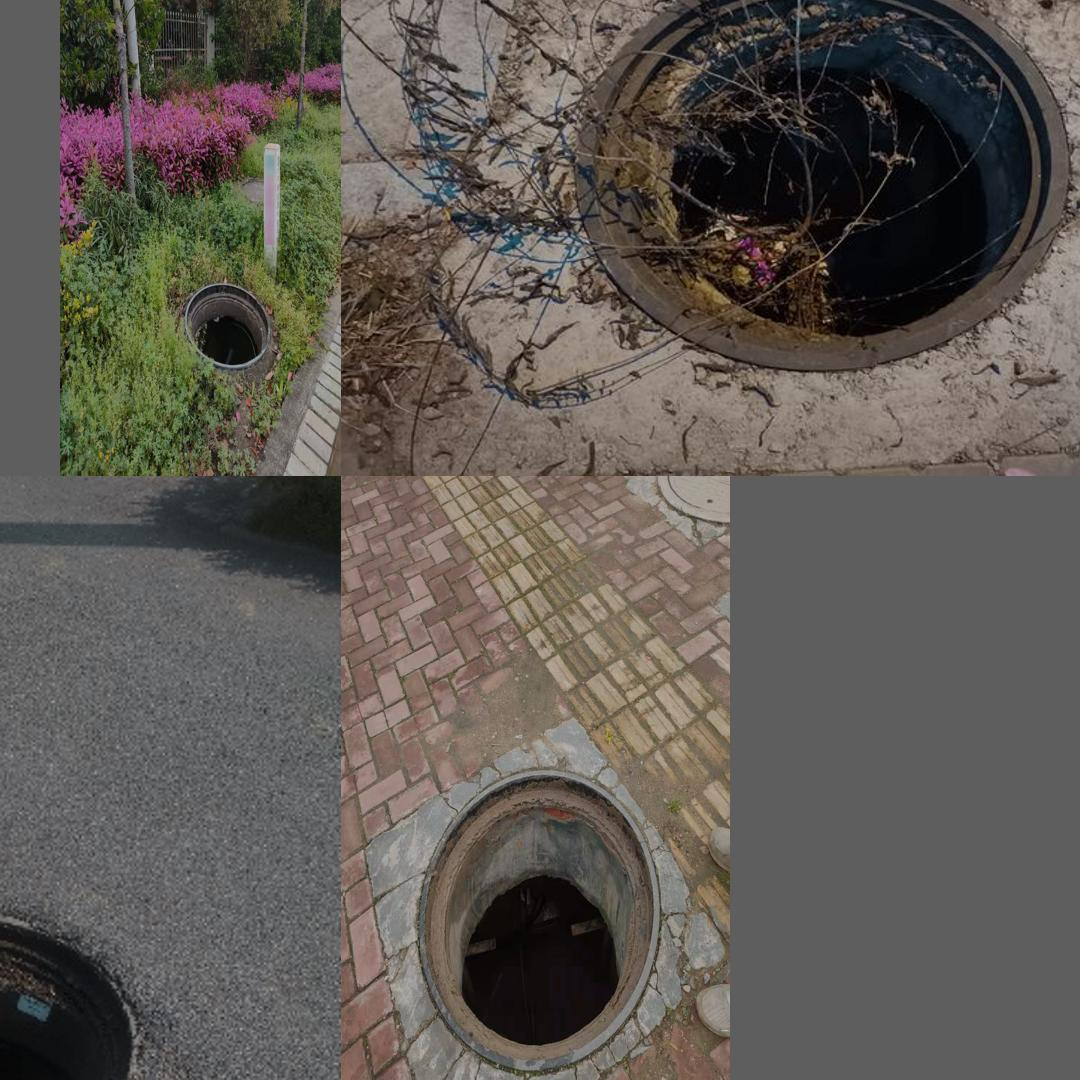lose: (554, 0, 1080, 361), (416, 770, 661, 1076), (0, 910, 140, 1080), (184, 279, 271, 370)
